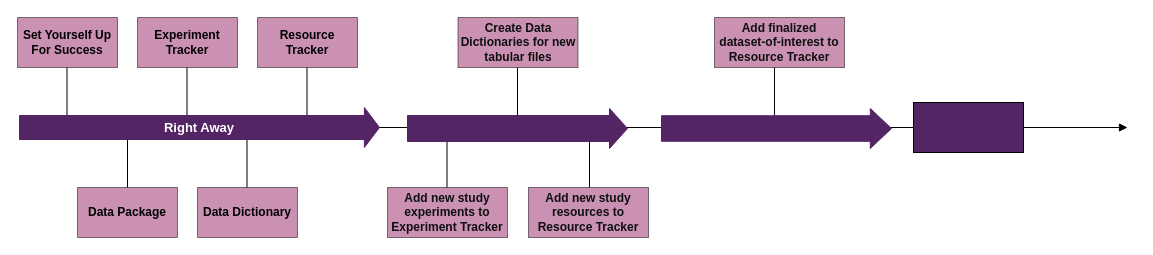
The diagram is 1153 pixels wide and 255 high, and some of its shapes have lost their labels. The shapes that lost their labels are listed below. From the top down, each one's centre as x and y in pixels, then its label:
At pixel 968 127: "Finish Preparing Data Package Locally".
At pixel 1077 107: "NEXT: Prepare for submission".
At pixel 517 128: "Throughout Your Study".
At pixel 776 128: "After Dataset-of-Interest Finalized".
